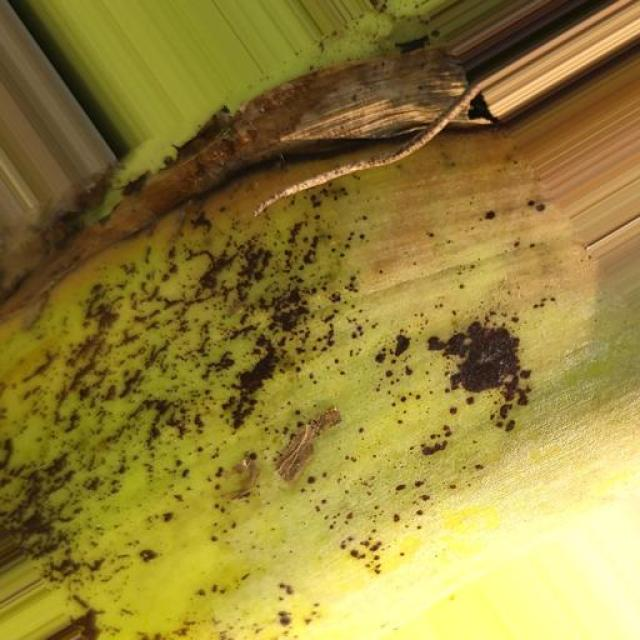Anthracnose: (0, 96, 616, 640)
